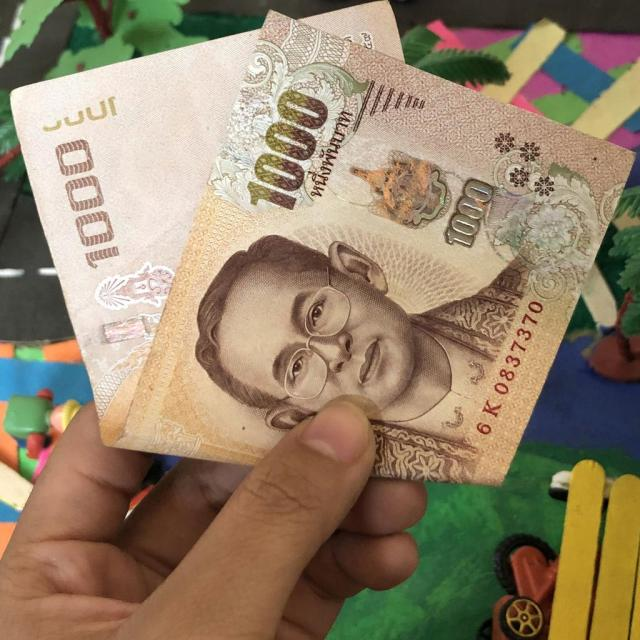THAI1000: (9, 1, 636, 489)
